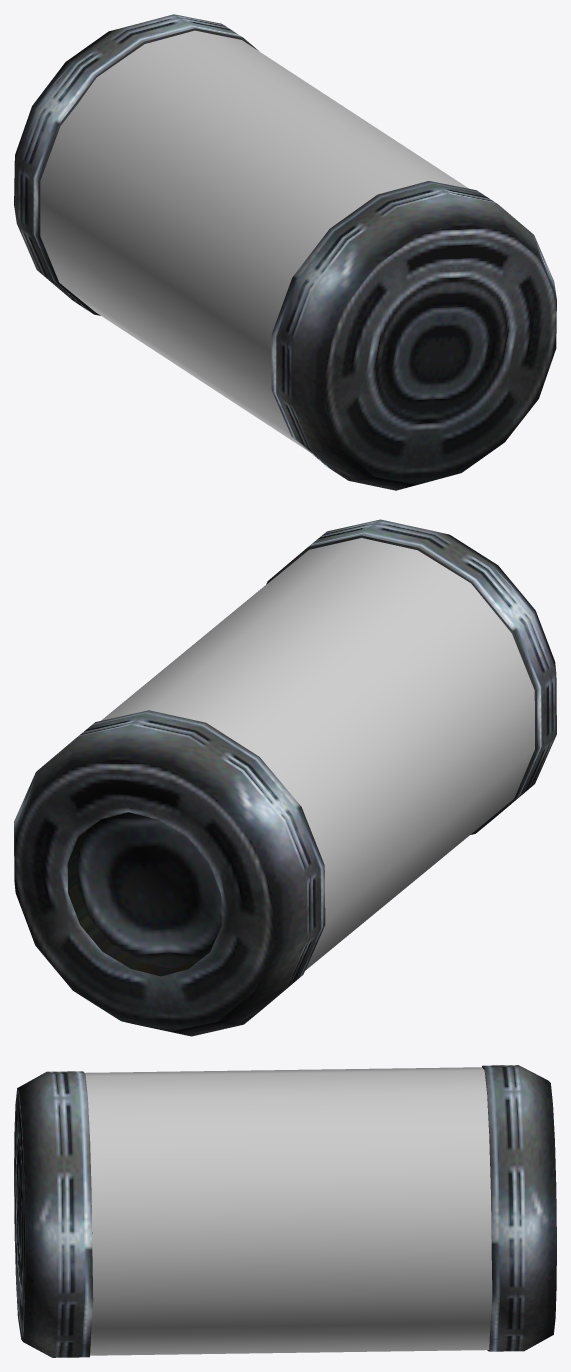
The model's file is plasma_ammo.fbx.
3 views of the same model, one above another, from view 1: azimuth 30°, elevation 25°; view 2: azimuth 150°, elevation 25°; view 3: azimuth 270°, elevation 25° (orthographic). The views are drawn at different scales.
Parts seen in each view (by area): view 1: ammo box plazma; view 2: ammo box plazma; view 3: ammo box plazma.
Boxes of the visible parts, left/top/right/bottom form: ammo box plazma: left=14, top=14, right=556, bottom=490; ammo box plazma: left=14, top=519, right=556, bottom=1036; ammo box plazma: left=14, top=1065, right=556, bottom=1357.
Size of the model in its own units: 15.2 by 14.29 by 26.97.
